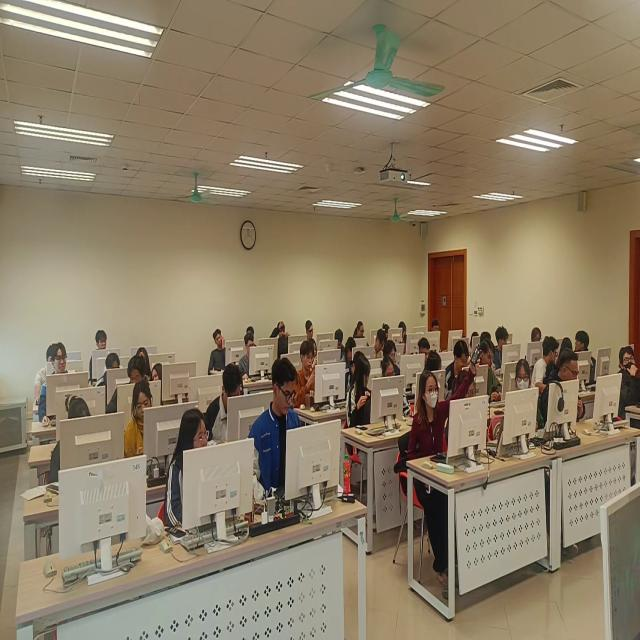raise_hand: (411, 346, 482, 592), (620, 345, 640, 414), (270, 319, 292, 341)
raise_head: (164, 406, 214, 531), (40, 340, 70, 428), (89, 327, 109, 382), (208, 324, 227, 372), (137, 345, 152, 378), (247, 321, 258, 338)
using_computer: (251, 358, 305, 504), (50, 395, 96, 487), (205, 363, 246, 444), (545, 352, 587, 423), (455, 370, 491, 450), (125, 381, 156, 465), (112, 359, 148, 410), (477, 342, 505, 404), (33, 341, 57, 403), (95, 351, 122, 393), (344, 347, 363, 397), (239, 332, 256, 374), (496, 326, 510, 365), (417, 334, 432, 364), (373, 328, 387, 359), (342, 337, 357, 365), (334, 327, 347, 358), (384, 336, 397, 364), (432, 319, 443, 350), (304, 319, 319, 339), (432, 317, 443, 344), (311, 336, 321, 362), (531, 326, 543, 346), (397, 319, 407, 342), (355, 320, 365, 341), (470, 330, 479, 352), (383, 321, 390, 338)
using_phone: (295, 339, 318, 407)
